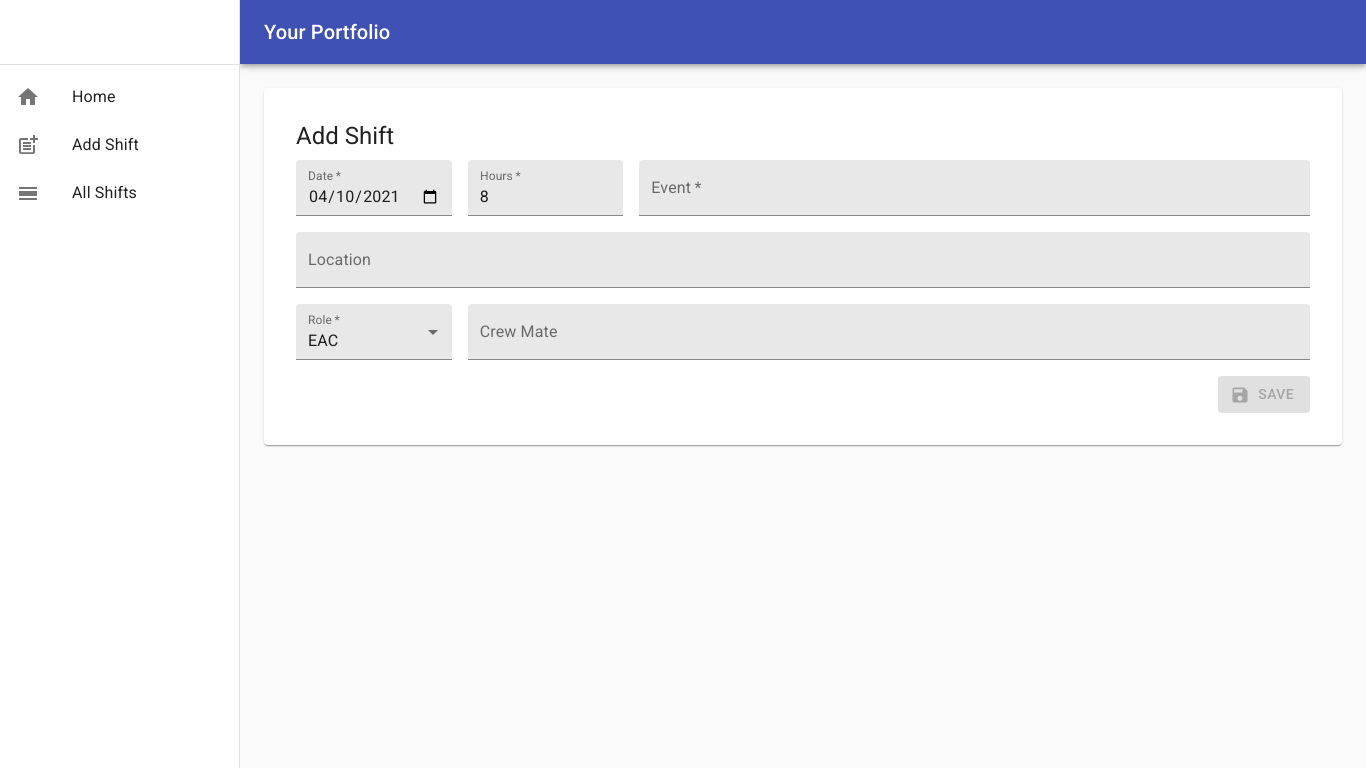
Test: displays an invalid event name properly
In the field labelled "Event": (975, 188) [639,160,1310,216], type "a"
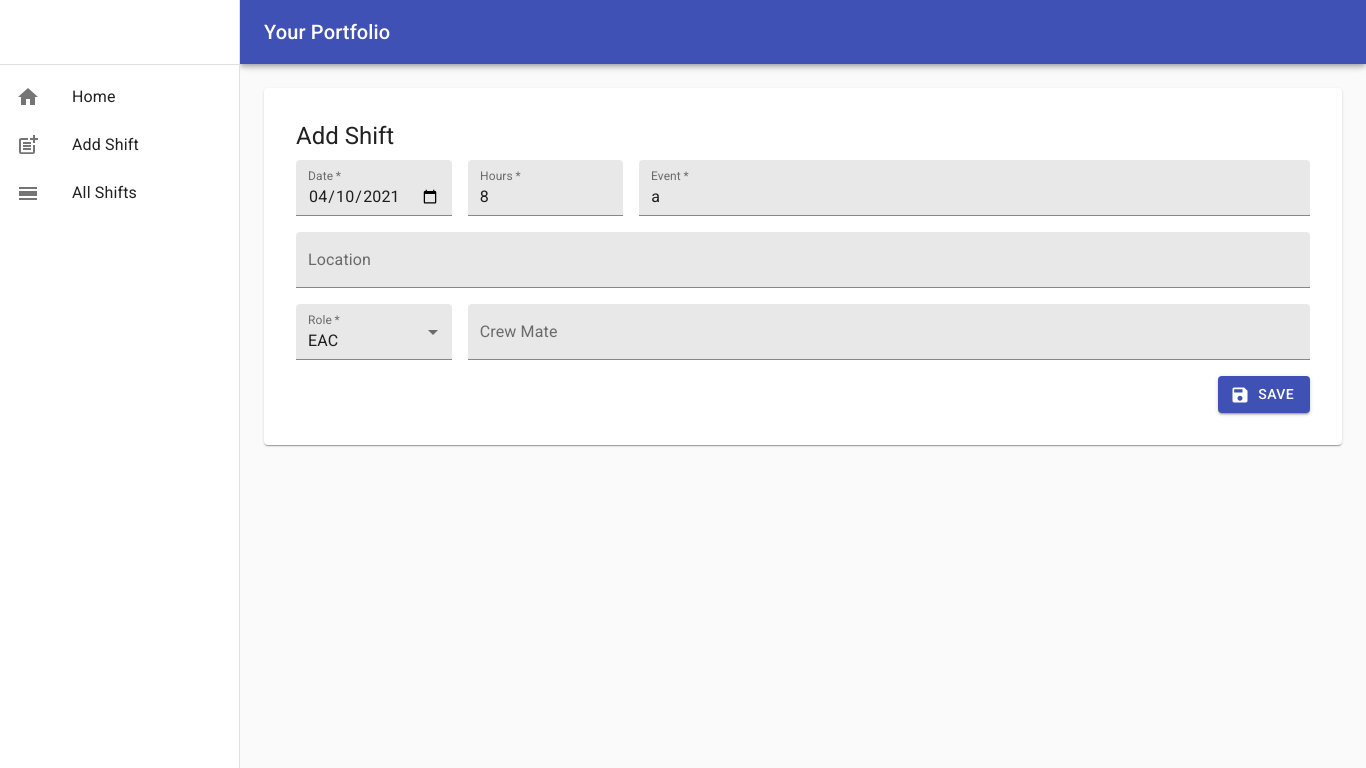
Clear the field labelled "Event": (975, 188) [639,160,1310,216]
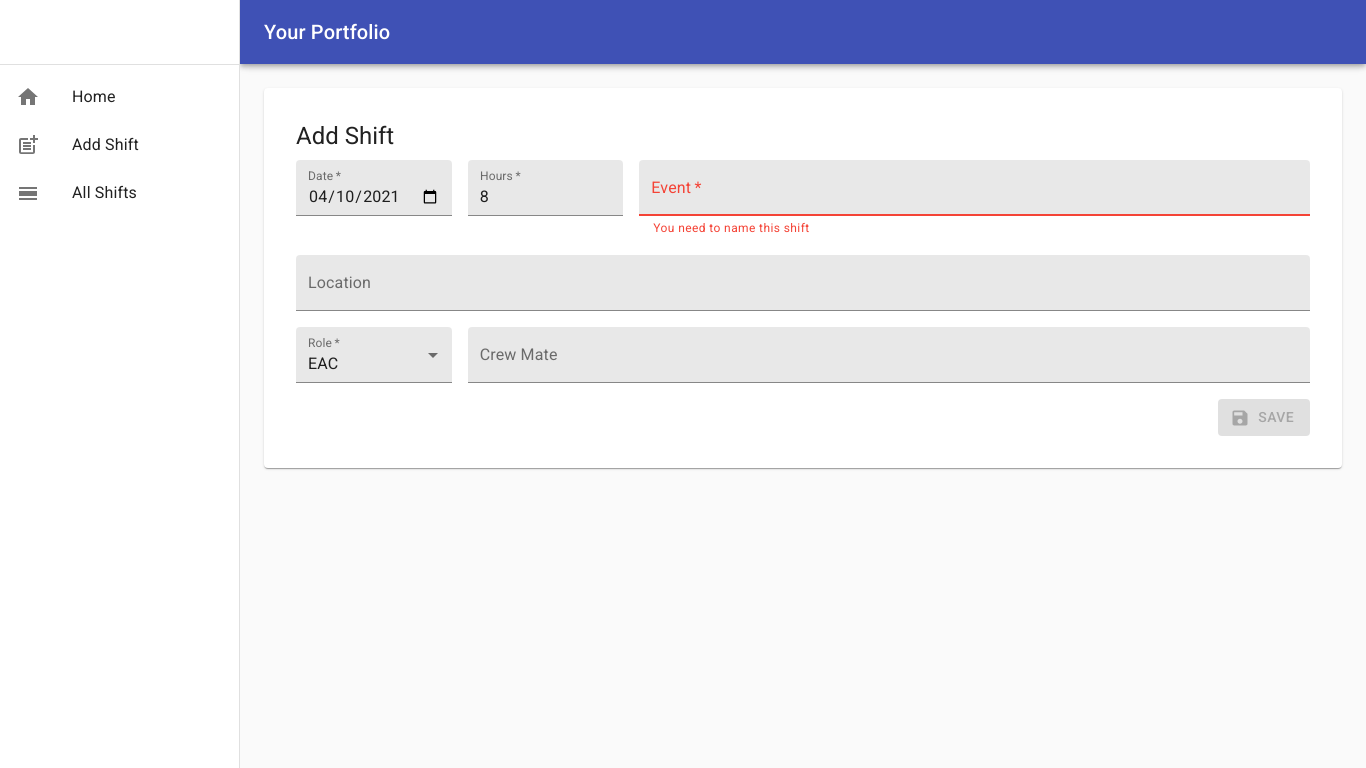
Check: the text "You need to name this shift" is shown, box [653,221,810,235]
Check: the button "Save" is disabled, box [1218,399,1310,436]
